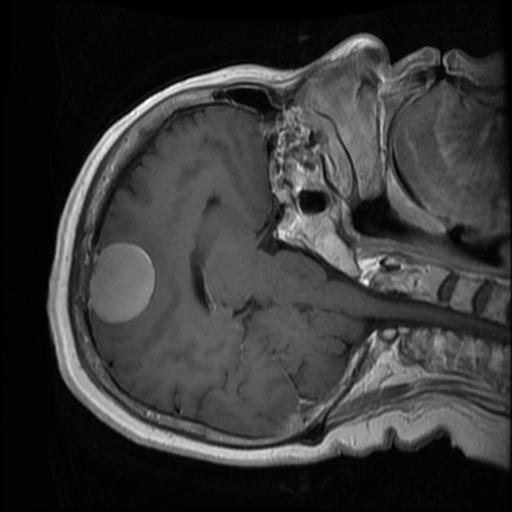meningioma: (88, 243, 153, 323)
